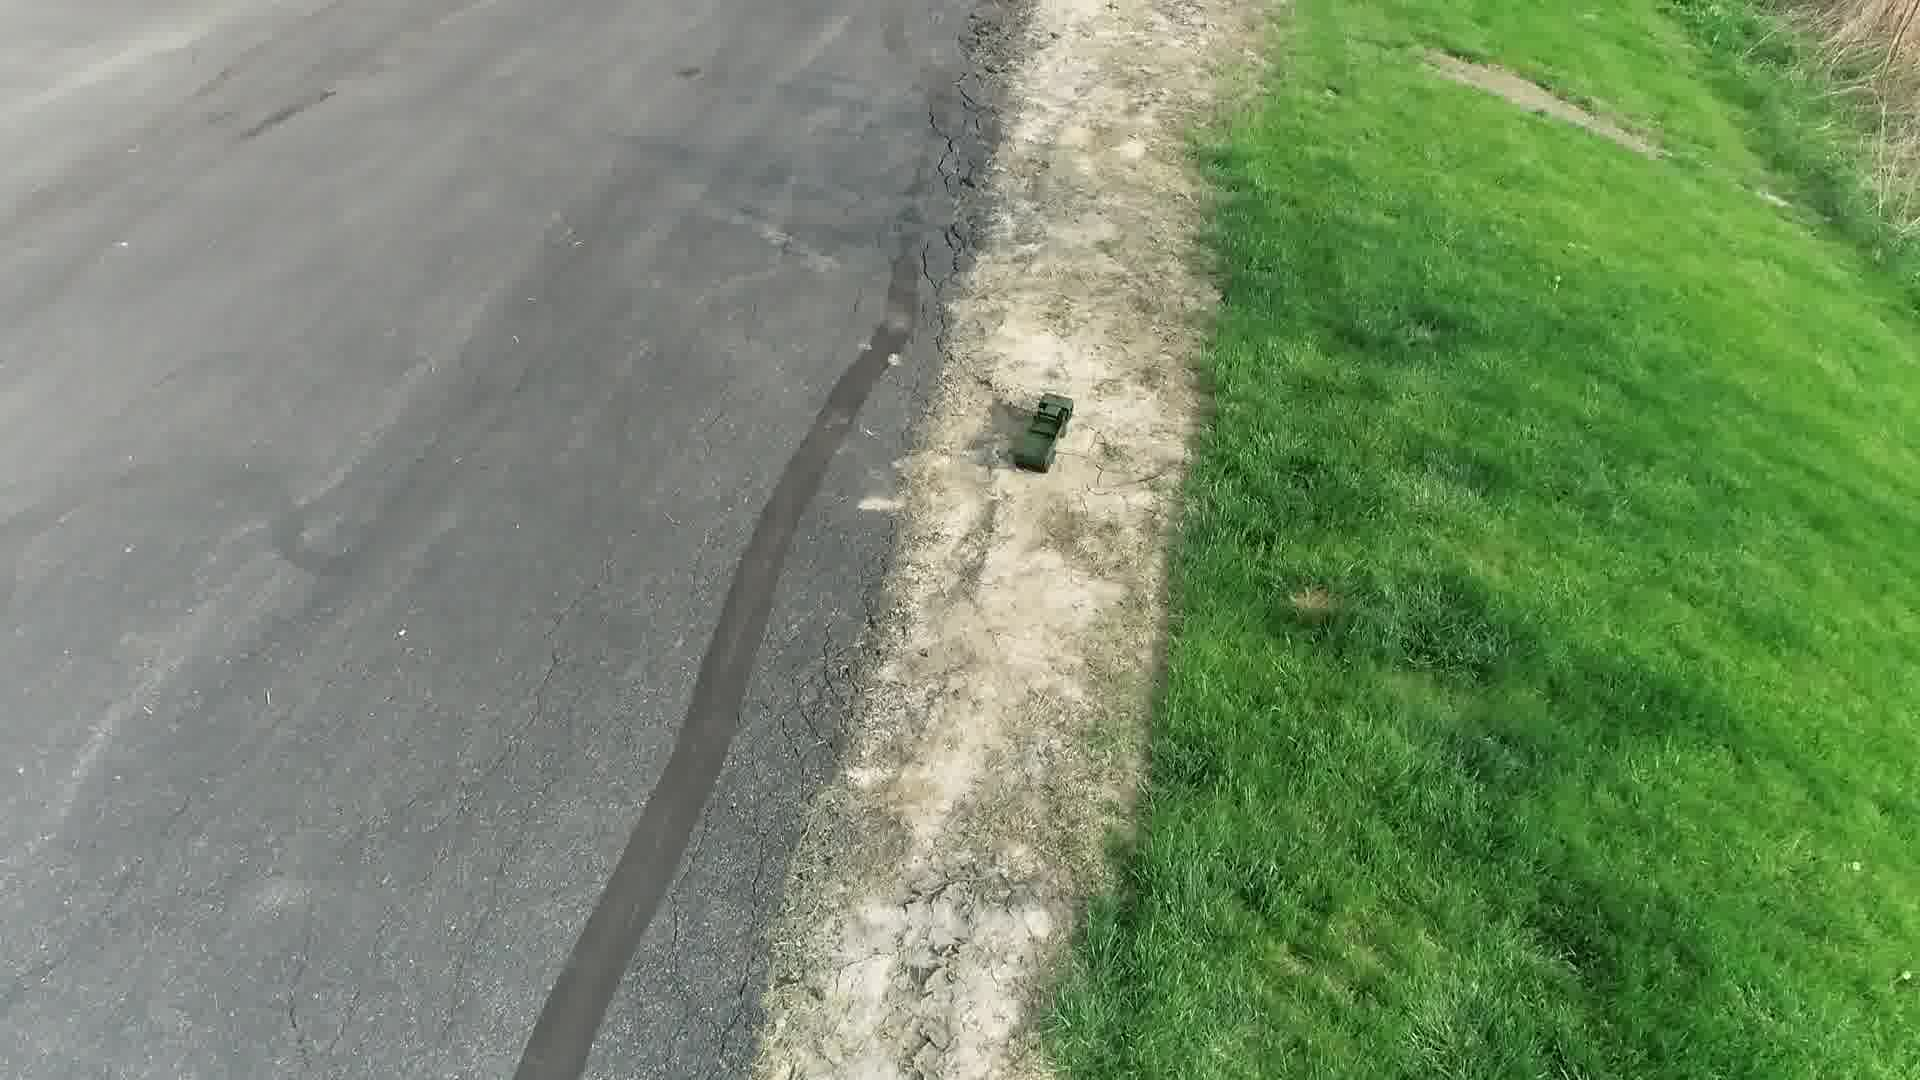transporter9: (1005, 385, 1079, 476)
